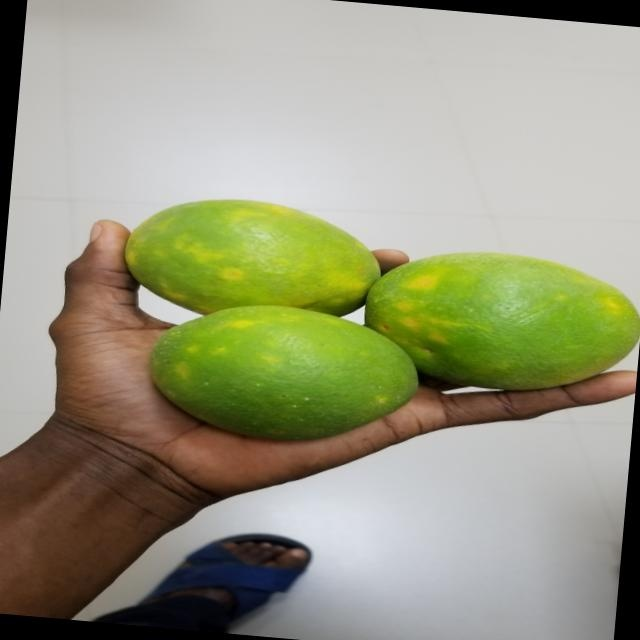agrume: (136, 293, 432, 455), (347, 238, 640, 401), (102, 185, 382, 326)
